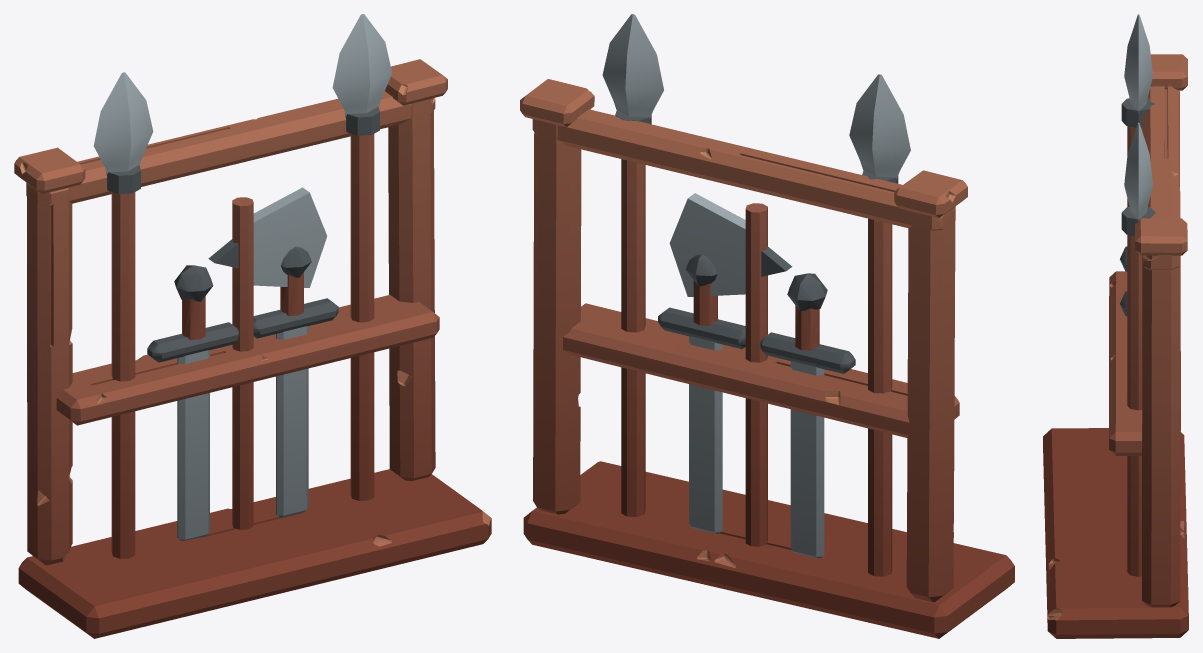
File: weapon_rack.glb
The picture shows the model from 3 angles, left to right: view 1: azimuth 30°, elevation 25°; view 2: azimuth 150°, elevation 25°; view 3: azimuth 270°, elevation 25°; orthographic projection. The views are drawn at different scales.
Visible parts, largest first — view 1: weapon_rack; view 2: weapon_rack; view 3: weapon_rack.
Part boxes in pixels (<box>): weapon_rack: <box>14,14,491,638</box>; weapon_rack: <box>520,14,1014,638</box>; weapon_rack: <box>1043,14,1188,638</box>.
Size of the model in its own units: 2.34 by 2.81 by 0.7723.
Materials: 1 (1 with a texture image).
